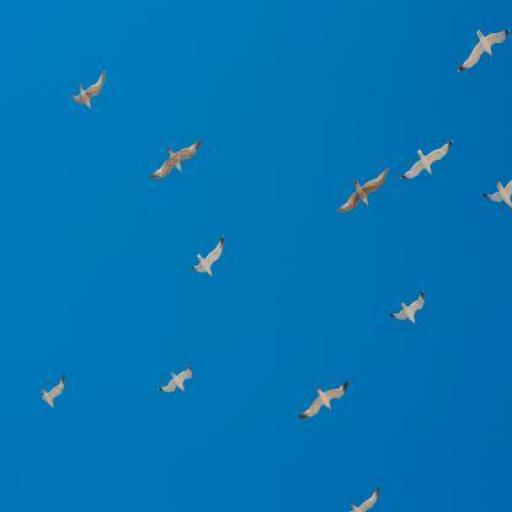bird: (454, 28, 511, 71), (338, 166, 389, 212), (400, 140, 453, 180), (150, 139, 201, 178), (298, 381, 348, 418), (71, 68, 106, 108), (192, 235, 224, 275), (388, 289, 424, 324), (157, 366, 193, 392), (482, 179, 512, 209), (41, 373, 66, 408), (349, 488, 378, 511)
